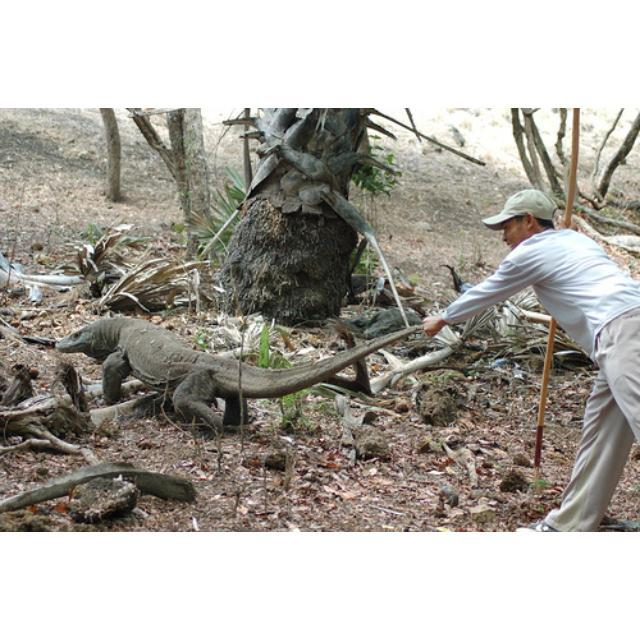KomodoDragon: (53, 314, 417, 440)
